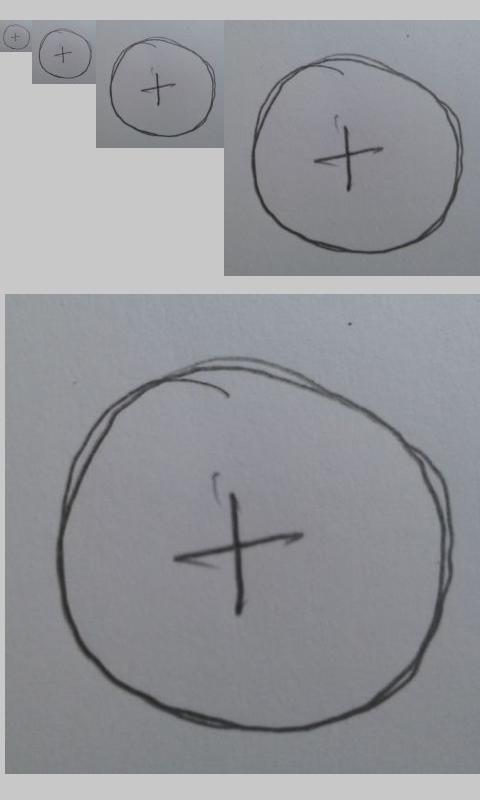button: (55, 351, 454, 737), (250, 51, 463, 256), (109, 36, 216, 138), (38, 28, 93, 79), (2, 24, 31, 50)
